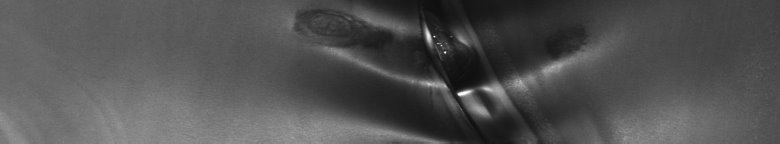ke: (324, 16, 572, 136)
